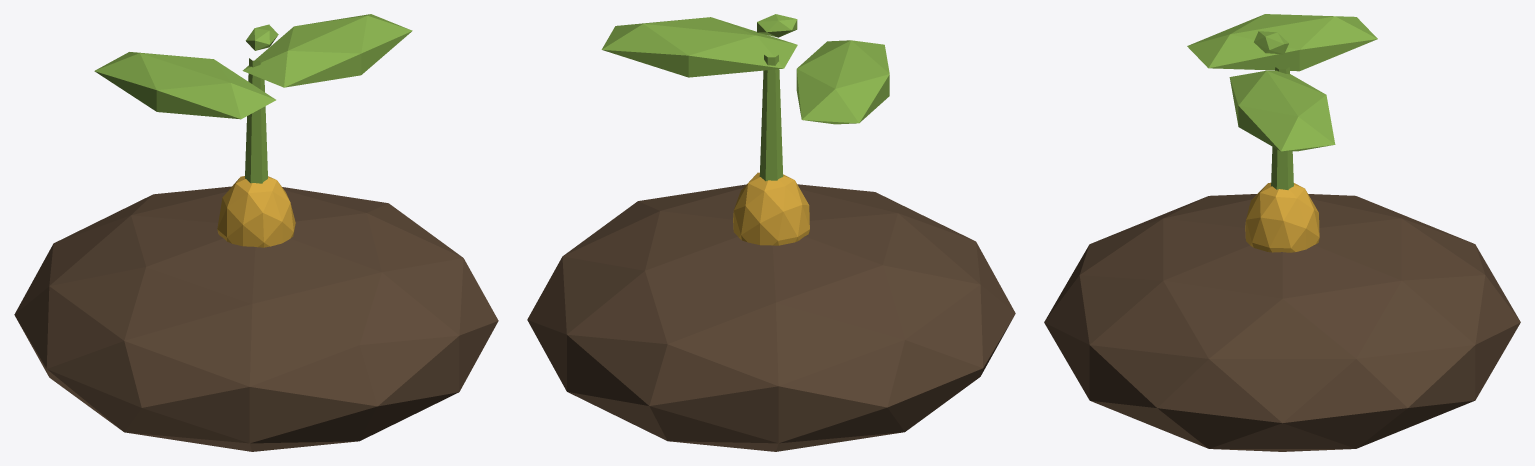
File: tree_02_spire.glb
3 views of the same model, side by side, from view 1: azimuth 30°, elevation 25°; view 2: azimuth 150°, elevation 25°; view 3: azimuth 270°, elevation 25° (orthographic). The views are drawn at different scales.
Visible parts, largest first — view 1: OR_Tree_soil, OR_Tree_sprout, OR_Tree_seed; view 2: OR_Tree_soil, OR_Tree_sprout, OR_Tree_seed; view 3: OR_Tree_soil, OR_Tree_sprout, OR_Tree_seed.
Part boxes in pixels (x1,y1,x2,y2): OR_Tree_soil: (14,186,498,451); OR_Tree_sprout: (94,14,412,183); OR_Tree_seed: (217,176,295,247); OR_Tree_soil: (527,184,1015,451); OR_Tree_sprout: (601,14,889,181); OR_Tree_seed: (733,172,809,245); OR_Tree_soil: (1044,194,1520,451); OR_Tree_sprout: (1187,14,1377,189); OR_Tree_seed: (1245,182,1319,252).
Bounding box in the file's own units: 2.16 × 1.89 × 2.16.
